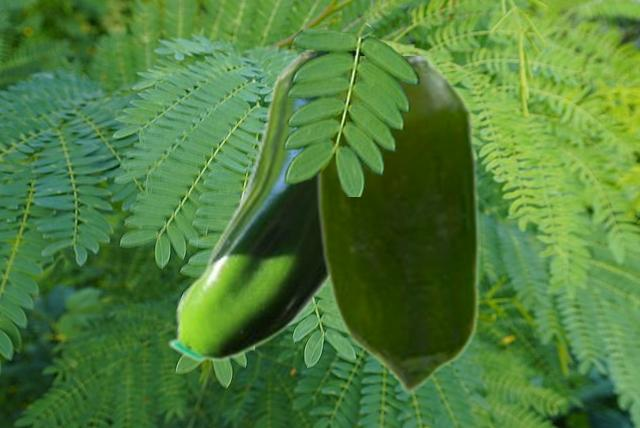green_chili: (314, 56, 479, 392), (166, 52, 328, 362)
